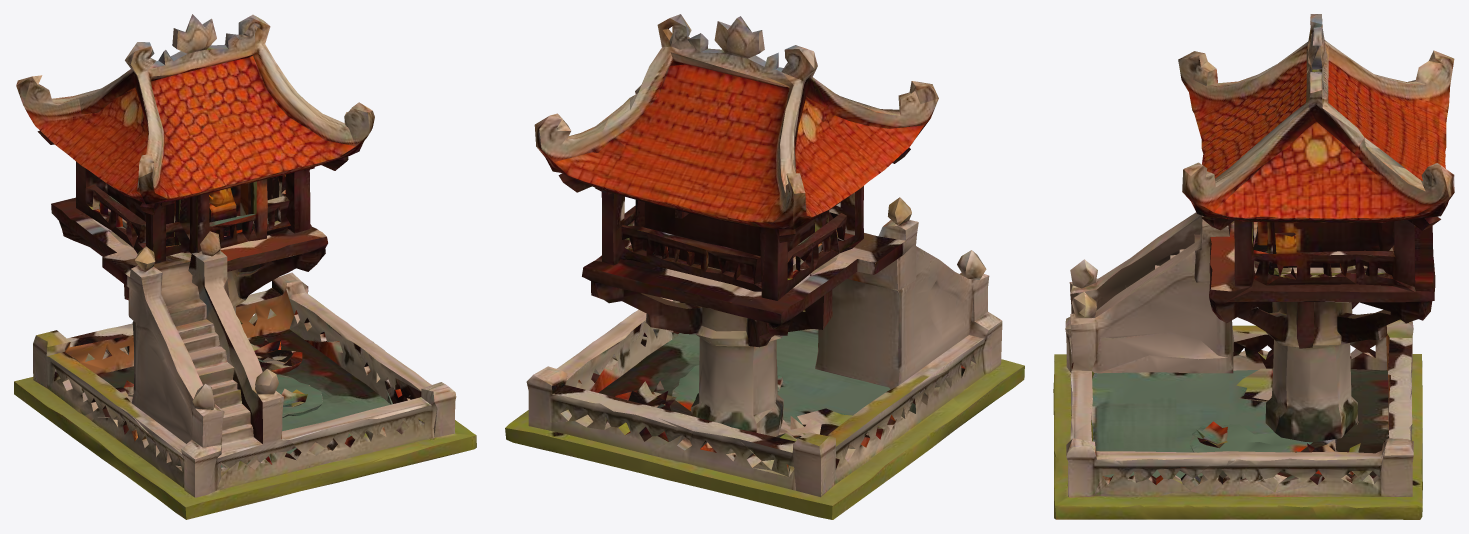
The model's file is one-pillar-pagoda.glb.
3 views of the same model, side by side, from view 1: azimuth 30°, elevation 25°; view 2: azimuth 150°, elevation 25°; view 3: azimuth 270°, elevation 25° (orthographic). The views are drawn at different scales.
Visible parts, largest first — view 1: logan-textured.obj; view 2: logan-textured.obj; view 3: logan-textured.obj.
Part boxes in pixels (<box>): logan-textured.obj: <box>14,14,476,519</box>; logan-textured.obj: <box>505,14,1024,519</box>; logan-textured.obj: <box>1053,14,1454,519</box>.
Bounding box in the file's own units: 0.8013 × 1 × 0.8882.
Materials: 1 (1 with a texture image).
